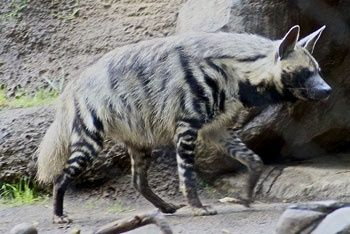hyena: (41, 20, 334, 229)
